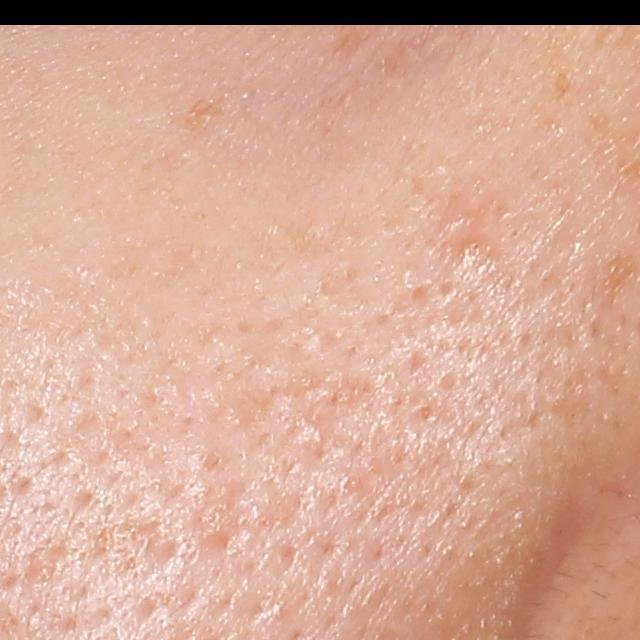melasma: (174, 89, 229, 141), (547, 64, 572, 105)
